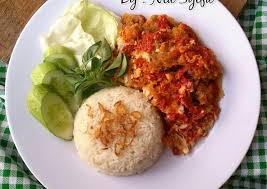ayam_geprek: (131, 18, 224, 149)
